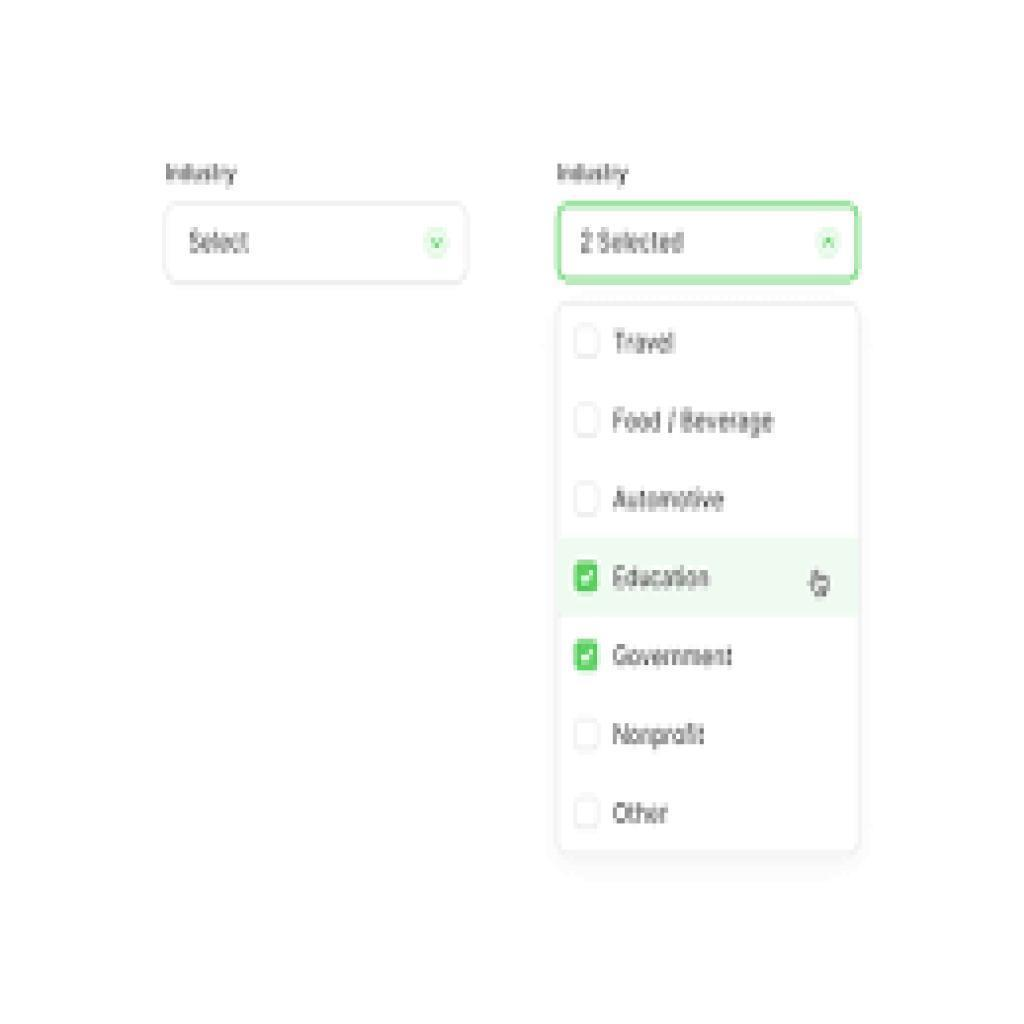checkbox: (571, 558, 600, 597), (572, 479, 599, 519), (573, 797, 601, 831), (572, 636, 597, 672), (575, 403, 600, 438), (575, 720, 601, 753), (575, 326, 601, 357)
dropdown: (558, 198, 862, 284), (165, 204, 469, 285)
